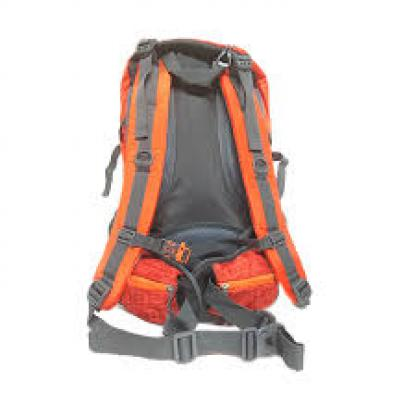morral: (74, 28, 320, 381)
